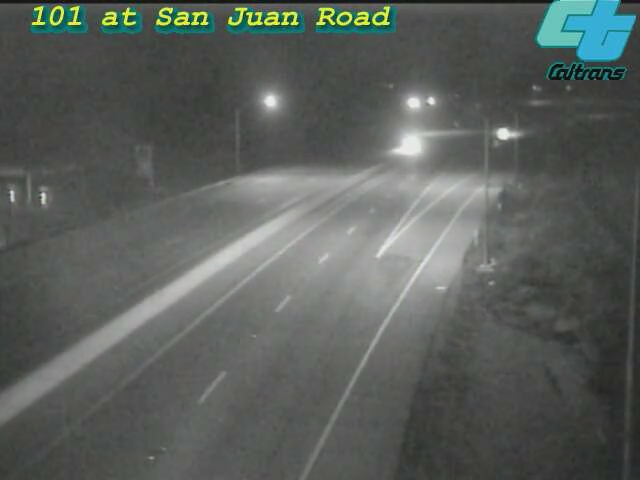vehicle: (383, 120, 433, 170), (478, 108, 528, 158)
